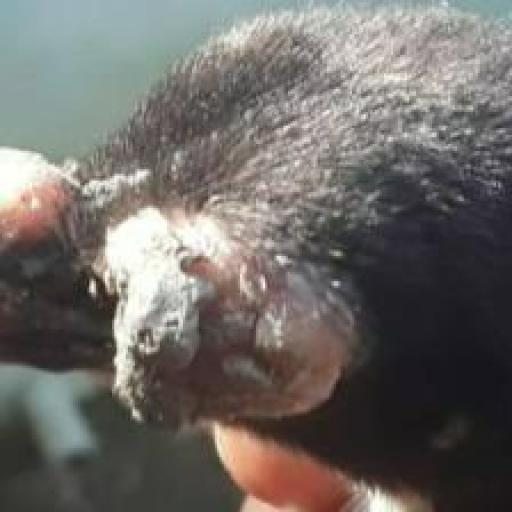disease: (85, 177, 359, 455)
